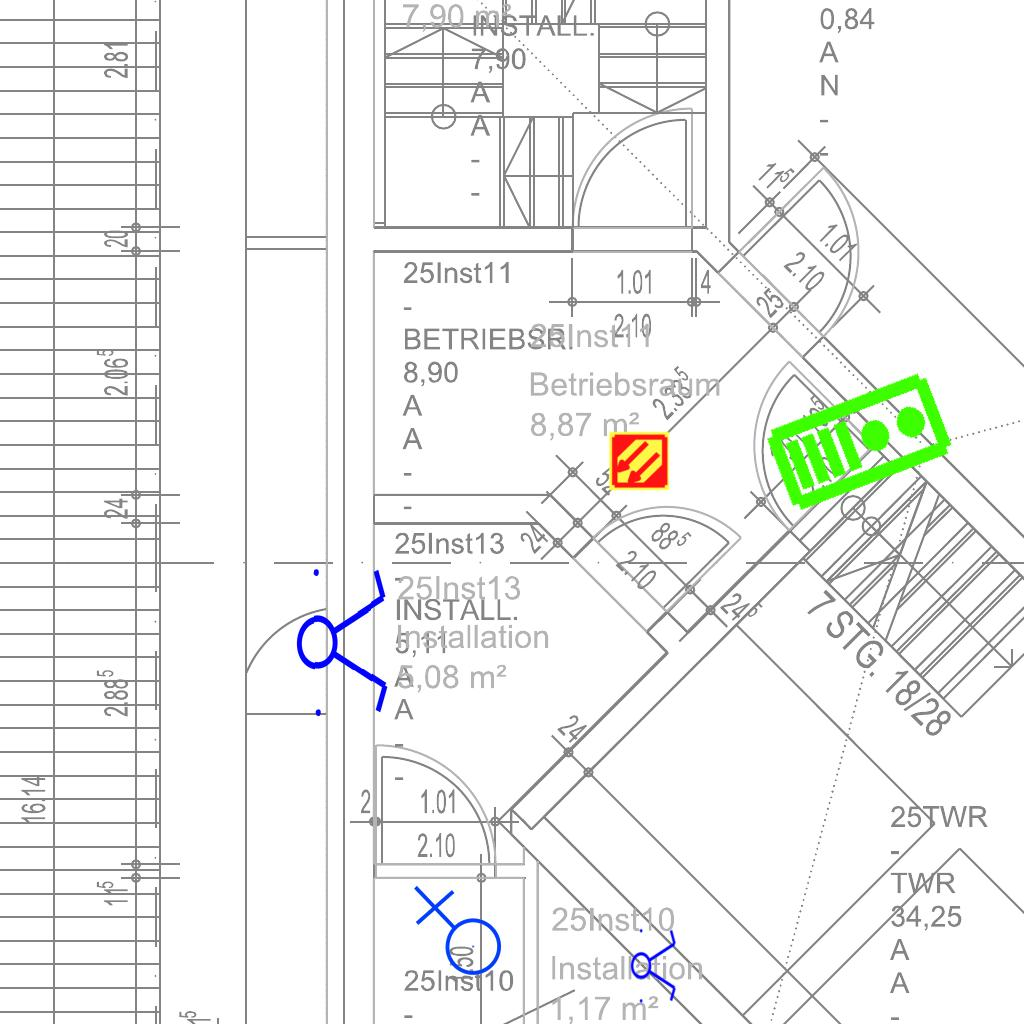ASR_Ansaugrauchmelder: (608, 430, 670, 492)
Elektroanschluss_allgemein_230V_Geraeteanschlussdose_230V: (409, 885, 503, 984)
Gegensprechanlage_mit_Video: (760, 364, 959, 516)
Serienschalter: (293, 556, 393, 726), (630, 923, 678, 1007)
